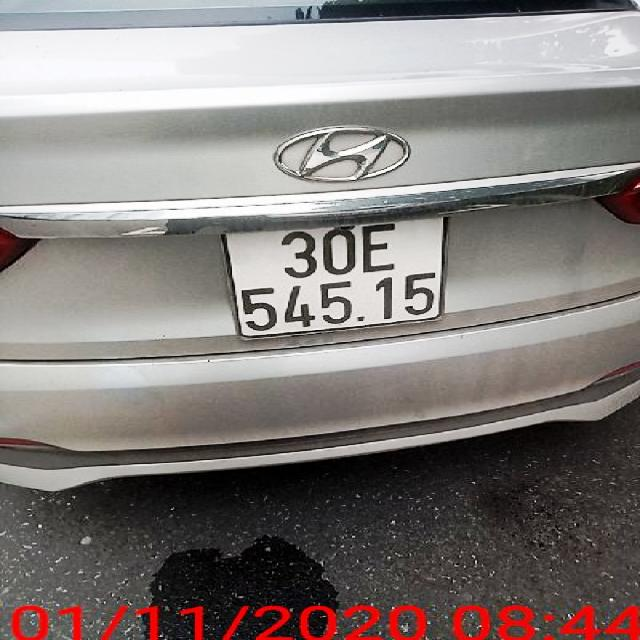license_plate: (229, 214, 457, 343)
